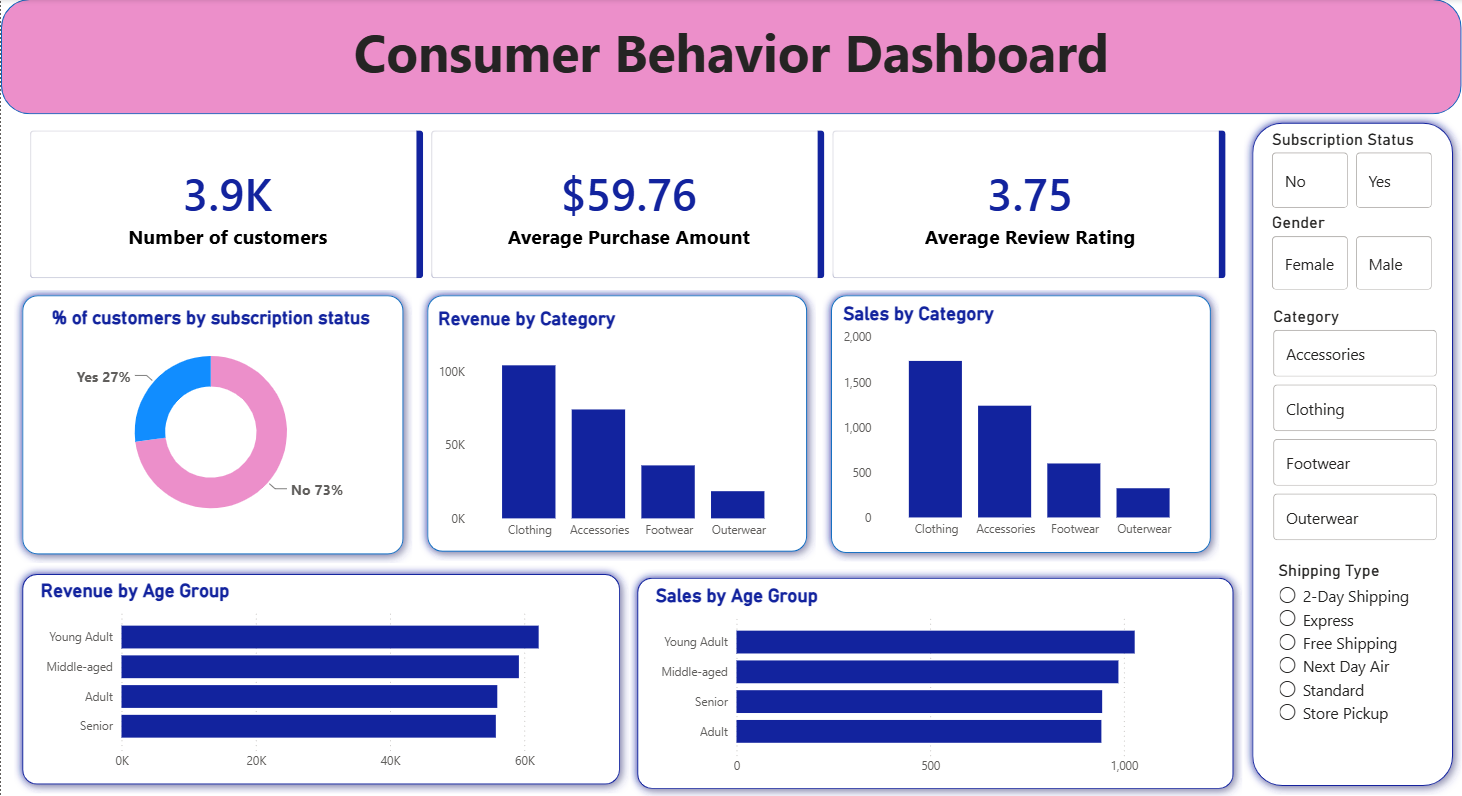

The dashboard page shown, as its layout file describes it:
{"tool":"powerbi","page":{"name":"Page 1","canvas":[1500,820],"ordinal":0},"visuals":[{"type":"shape","box":[0,0,1499.9,118.4],"z":0},{"type":"textbox","box":[0,12.5,1499.9,93.3],"z":1000},{"type":"shape","box":[12.5,295.2,409.4,284.1],"z":2000},{"type":"shape","box":[12.9,582.1,631.7,234.2],"z":2500,"group":"g1"},{"type":"donutChart","title":"% of customers by subscription status","fields":{"Category":["public customer.subscription_status"],"Y":["CountNonNull(public customer.customer_id)"]},"box":[26.5,316.1,377.4,236.8],"z":3000},{"type":"shape","box":[428.9,295.2,408.1,281.3],"z":4000},{"type":"clusteredColumnChart","title":"Revenue by Category","fields":{"Y":["Sum(public customer.purchase_amount)"],"Category":["public customer.category"]},"box":[444.3,317.5,376,246.5],"z":5000},{"type":"shape","box":[844,295.2,408.1,282.7],"z":6000},{"type":"clusteredColumnChart","title":"Sales by Category","fields":{"Y":["CountNonNull(public customer.customer_id)"],"Category":["public customer.category"]},"box":[860.7,312,376,250.7],"z":7000},{"type":"group","id":"g1","title":"Group 1","box":[12.9,582.1,632,234.8],"z":8000},{"type":"shape","box":[644.8,585.3,630.4,234.8],"z":9000},{"type":"clusteredBarChart","title":"Sales by Age Group","fields":{"Y":["CountNonNull(public customer.customer_id)"],"Category":["public customer.age_group"]},"box":[667.3,601.4,585.3,204.2],"z":10000},{"type":"shape","box":[1275.7,118.4,224.2,699.1],"z":11000},{"type":"advancedSlicerVisual","fields":{"Values":["public customer.subscription_status"]},"box":[1300.8,133.7,174.1,86.3],"z":12000},{"type":"advancedSlicerVisual","fields":{"Values":["public customer.gender"]},"box":[1300.8,220,174.1,85],"z":13000},{"type":"advancedSlicerVisual","fields":{"Values":["public customer.category"]},"box":[1302.1,316.1,178.3,247.9],"z":14000},{"type":"listSlicer","fields":{"Values":["public customer.shipping_type"]},"box":[1306.3,576.6,168.5,225.6],"z":15000},{"type":"cardVisual","fields":{"Data":["public customer.Number of customers","public customer.Average Purchase Amount","public customer.Average Review Rating"]},"box":[12.5,118.4,1263.2,186.6],"z":16000},{"type":"clusteredBarChart","title":"Revenue by Age Group","fields":{"Y":["Sum(public customer.purchase_amount)"],"Category":["public customer.age_group"]},"box":[36,598.1,585.6,204.1],"z":17500,"group":"g1"}]}

Visuals, with their boxes in screenshot pixels (x1, y1, x2, y2), scaled from the page's 1500x820 canvas onto the 1462x796 screenshot:
shape: locate(0, 0, 1461, 115)
textbox: locate(0, 12, 1461, 103)
shape: locate(12, 287, 411, 562)
shape: locate(13, 565, 628, 792)
"% of customers by subscription status" donutChart: locate(26, 307, 394, 537)
shape: locate(418, 287, 816, 560)
"Revenue by Category" clusteredColumnChart: locate(433, 308, 800, 547)
shape: locate(823, 287, 1220, 561)
"Sales by Category" clusteredColumnChart: locate(839, 303, 1205, 546)
"Group 1" group: locate(13, 565, 629, 793)
shape: locate(628, 568, 1243, 795)
"Sales by Age Group" clusteredBarChart: locate(650, 584, 1221, 782)
shape: locate(1243, 115, 1461, 794)
advancedSlicerVisual - public customer.subscription_status: locate(1268, 130, 1438, 214)
advancedSlicerVisual - public customer.gender: locate(1268, 214, 1438, 296)
advancedSlicerVisual - public customer.category: locate(1269, 307, 1443, 547)
listSlicer - public customer.shipping_type: locate(1273, 560, 1437, 779)
cardVisual - public customer.Number of customers x public customer.Average Purchase Amount: locate(12, 115, 1243, 296)
"Revenue by Age Group" clusteredBarChart: locate(35, 581, 606, 779)
